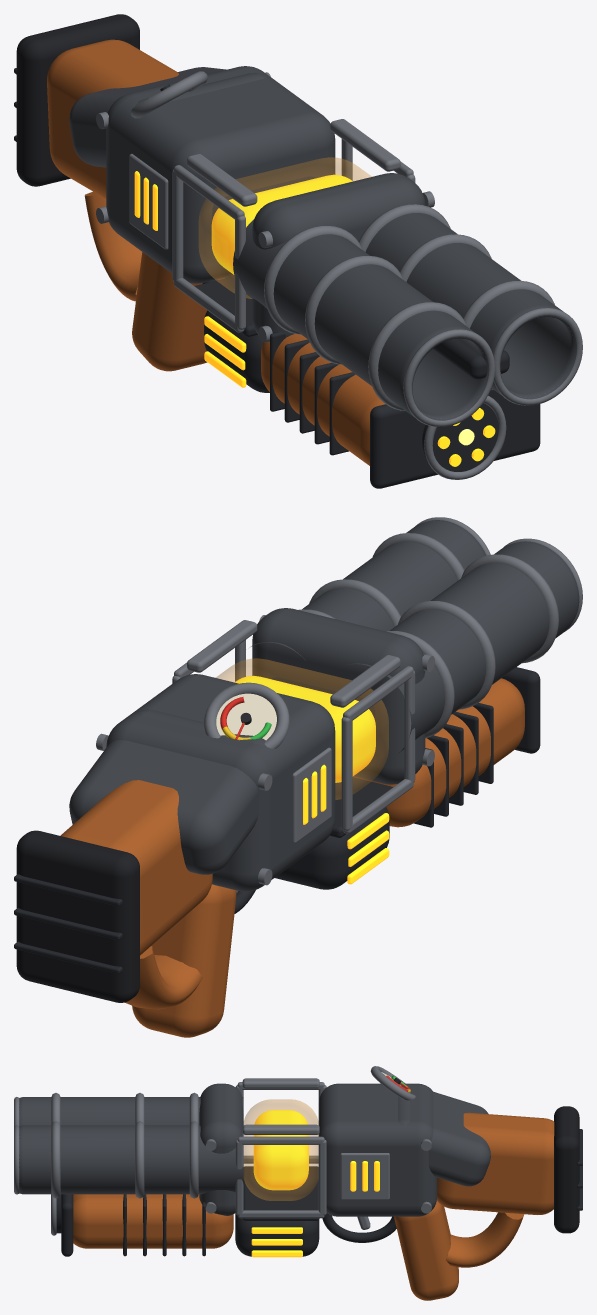
File: Overcharge_Scattergun.glb
3 views of the same model, one above another, from view 1: azimuth 30°, elevation 25°; view 2: azimuth 150°, elevation 25°; view 3: azimuth 270°, elevation 25° (orthographic). The views are drawn at different scales.
Parts seen in each view (by area): view 1: Receiver_Rear, Barrel_R, Barrel_L, Stock, ButtPad, Receiver_Front, Pump, Pump_FrontCap, Grip, Plasma_Glass, Receiver_Slope, Grip_Loop (+27 smaller); view 2: ButtPad, Receiver_Rear, Barrel_R, Receiver_Front, Receiver_Slope, Stock, Barrel_L, Grip, Pump, Plasma_Glass, Receiver_Lower, Plasma_Core (+21 smaller); view 3: Barrel_L, Receiver_Rear, Stock, Pump, Plasma_Glass, Barrel_R, Receiver_Slope, Grip, Receiver_Front, ButtPad, Plasma_Core, Receiver_BottomPlate (+19 smaller).
Part boxes in pixels (bbox=[...]): Receiver_Rear: bbox=[106, 66, 335, 283]; Barrel_R: bbox=[233, 219, 489, 420]; Barrel_L: bbox=[365, 213, 576, 399]; Stock: bbox=[47, 39, 178, 198]; ButtPad: bbox=[16, 14, 139, 186]; Receiver_Front: bbox=[252, 173, 425, 341]; Pump: bbox=[261, 334, 385, 465]; Pump_FrontCap: bbox=[370, 389, 540, 488]; Grip: bbox=[132, 252, 224, 371]; Plasma_Glass: bbox=[199, 157, 371, 298]; Receiver_Slope: bbox=[69, 67, 267, 167]; Grip_Loop: bbox=[84, 191, 142, 301]; ButtPad: bbox=[16, 830, 139, 1002]; Receiver_Rear: bbox=[106, 674, 335, 891]; Barrel_R: bbox=[347, 541, 579, 752]; Receiver_Front: bbox=[252, 608, 425, 784]; Receiver_Slope: bbox=[69, 709, 265, 874]; Stock: bbox=[60, 780, 212, 955]; Barrel_L: bbox=[251, 520, 486, 660]; Grip: bbox=[132, 884, 236, 1037]; Pump: bbox=[353, 678, 524, 827]; Plasma_Glass: bbox=[216, 658, 388, 799]; Receiver_Lower: bbox=[275, 807, 389, 889]; Plasma_Core: bbox=[234, 675, 375, 782]; Barrel_L: bbox=[19, 1125, 243, 1194]; Receiver_Rear: bbox=[318, 1083, 437, 1216]; Stock: bbox=[437, 1112, 554, 1214]; Pump: bbox=[73, 1194, 233, 1248]; Plasma_Glass: bbox=[244, 1099, 318, 1200]; Barrel_R: bbox=[19, 1097, 243, 1125]; Receiver_Slope: bbox=[398, 1083, 490, 1186]; Grip: bbox=[394, 1200, 458, 1300]; Receiver_Front: bbox=[199, 1083, 243, 1215]; ButtPad: bbox=[554, 1106, 579, 1233]; Plasma_Core: bbox=[253, 1110, 308, 1190]; Receiver_BottomPlate: bbox=[243, 1166, 319, 1220].
Size of the model in its own units: 0.1466 by 0.2399 by 0.576.
